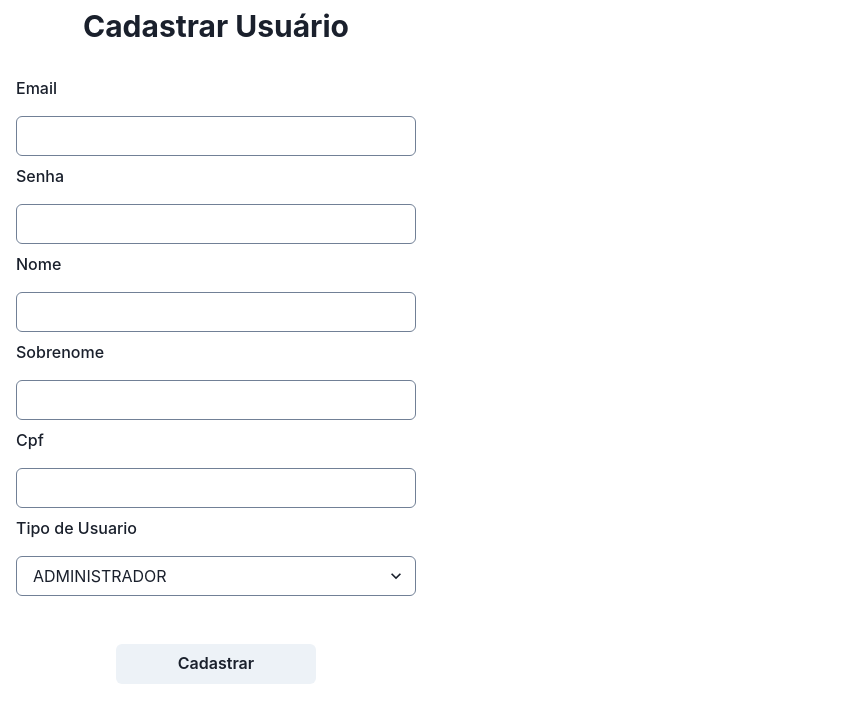
Test: Testando página de cadastro › Deve cadastrar usuário corretamente
This screenshot has width=856, height=701.
Type "novoUsuario@email.com" into the field with test id "input-email" at (216, 136), box [16,116,416,156]
Type "senha123" into the password field with test id "input-senha" at (216, 224), box [16,204,416,244]
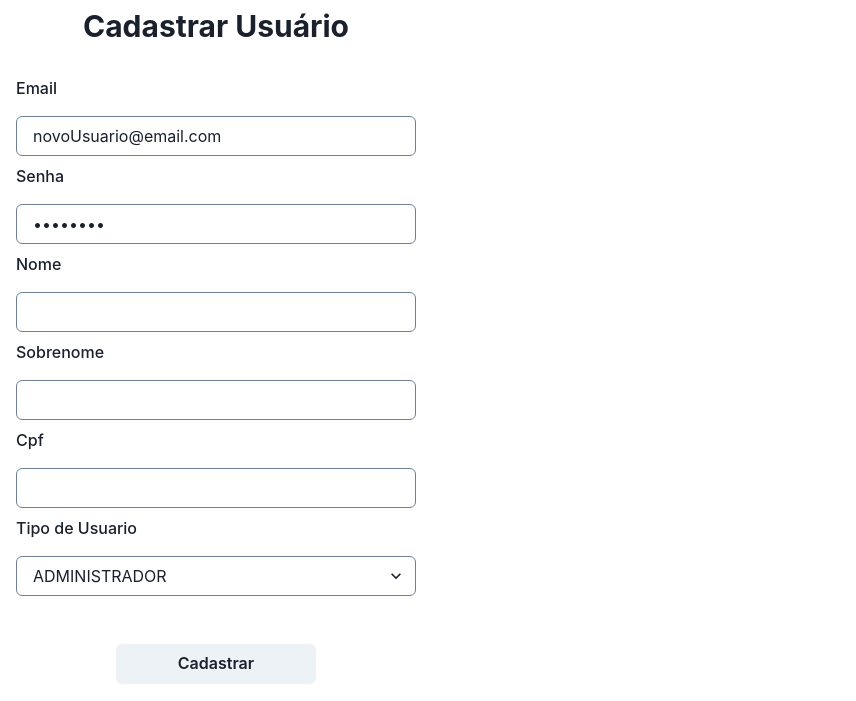
Type "João" into the field with test id "input-nome" at (216, 312), box [16,292,416,332]
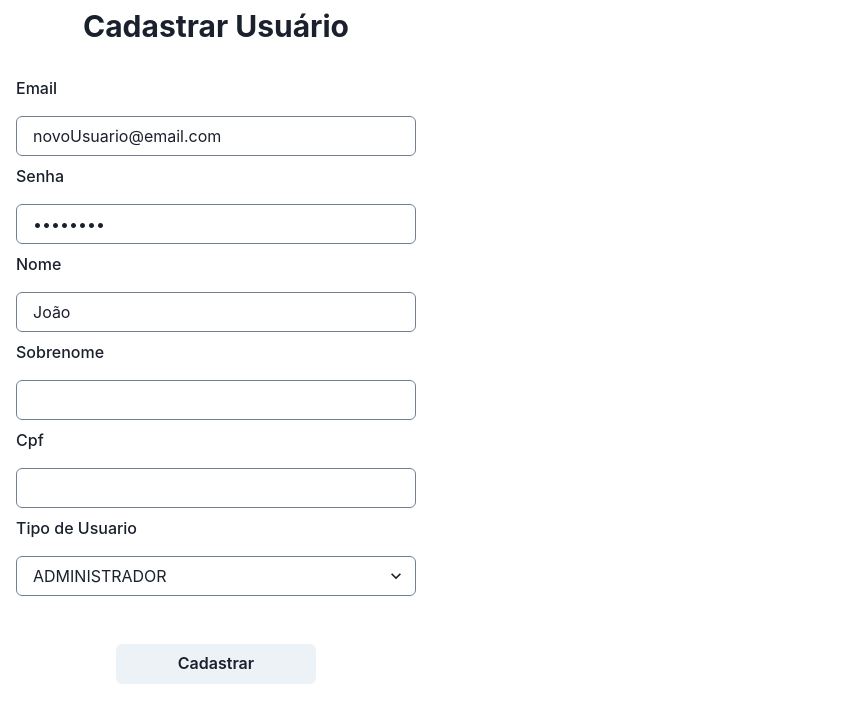
Type "Silva" into the field with test id "input-sobrenome" at (216, 400), box [16,380,416,420]
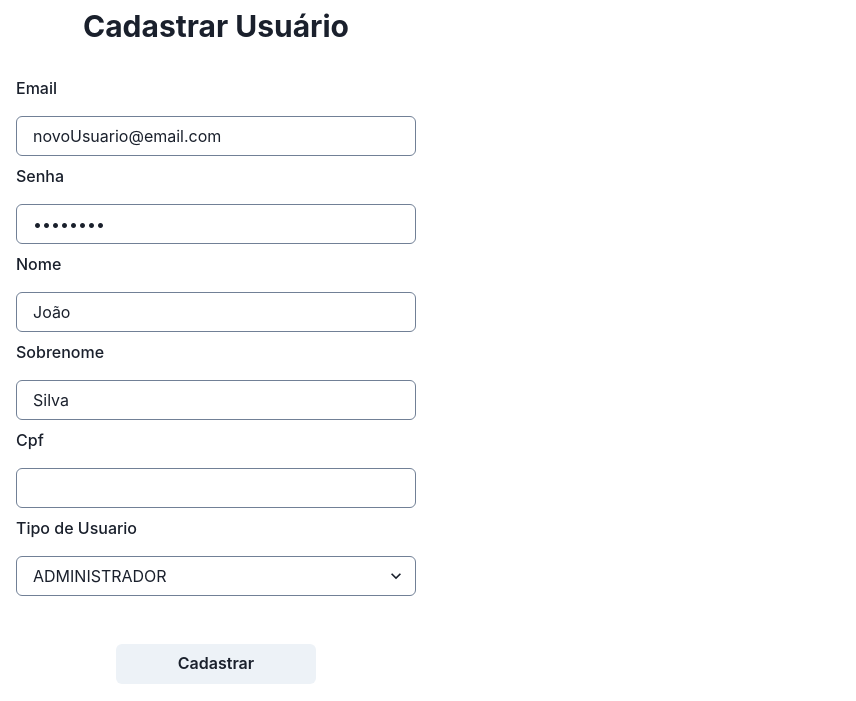
Type "12345678900" into the field with test id "input-cpf" at (216, 488), box [16,468,416,508]
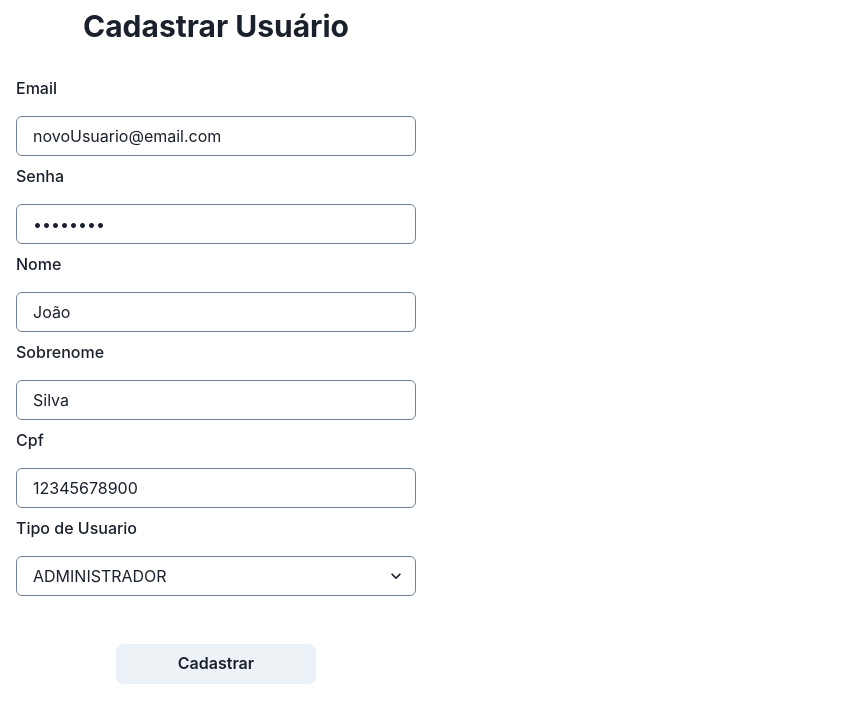
Select "USUARIO" in the dropdown with test id "input-tipoDeUsuario" at (216, 576), box [16,556,416,596]
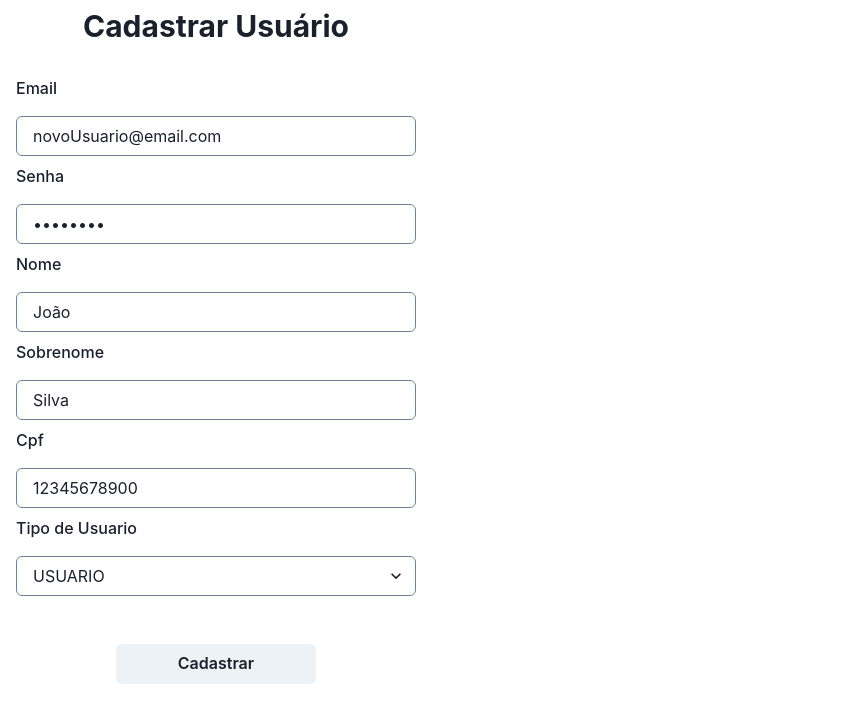
Click the button with test id "botao-criarUsuario" at (216, 664), box [116,644,316,684]
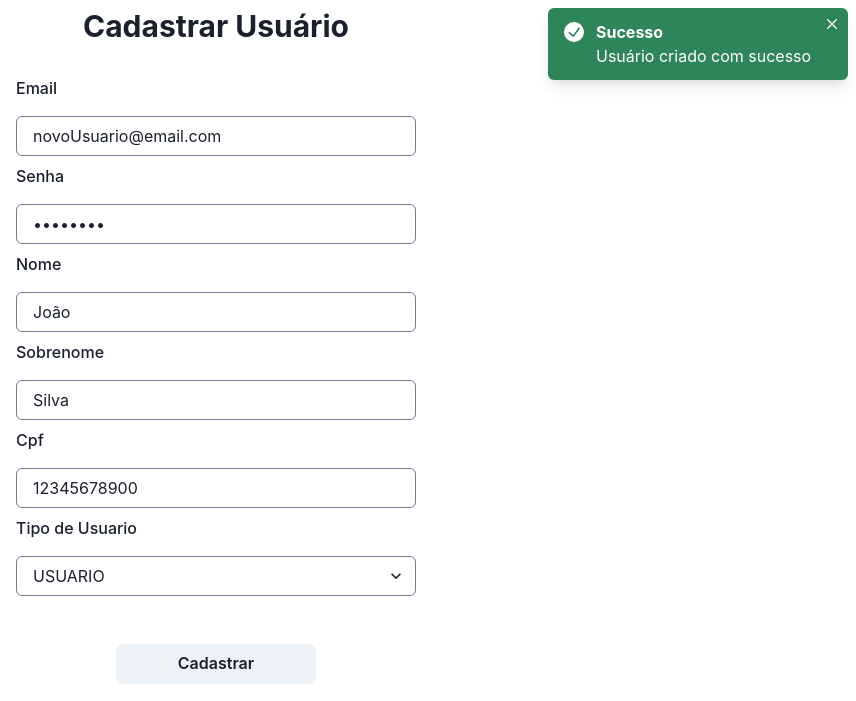
Check: the text "Usuário criado com sucesso" is shown, box [596,44,816,68]
